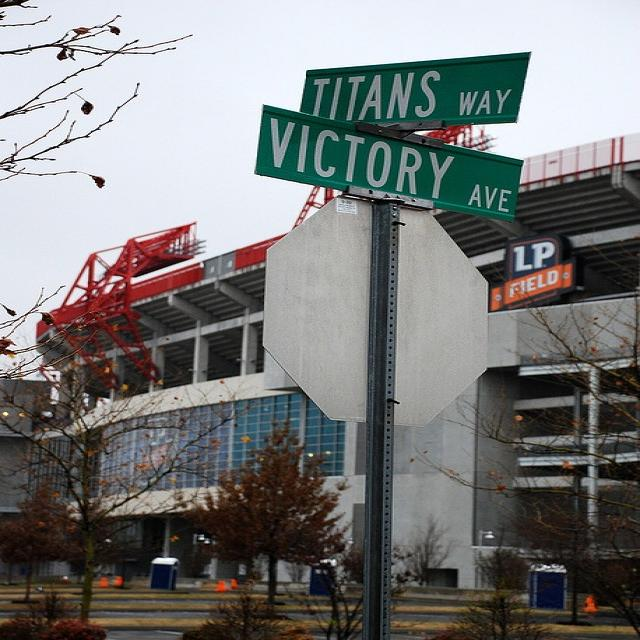pole: (348, 200, 430, 639)
